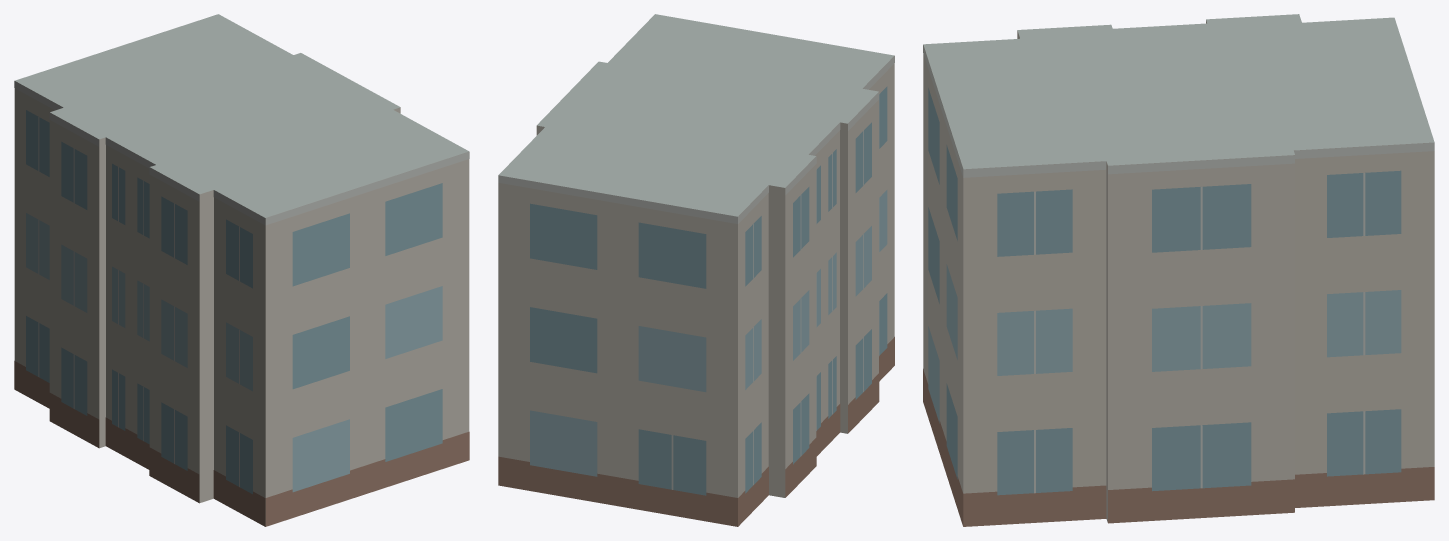
File: survey-upis-32699033.glb
The picture shows the model from 3 angles, left to right: view 1: azimuth 30°, elevation 25°; view 2: azimuth 150°, elevation 25°; view 3: azimuth 270°, elevation 25°; orthographic projection. The views are drawn at different scales.
Visible parts, largest first — view 1: survey-upis-32699033.tmp; view 2: survey-upis-32699033.tmp; view 3: survey-upis-32699033.tmp.
Part boxes in pixels (box(x1,y1,x2,y2)): survey-upis-32699033.tmp: box(14, 14, 469, 526); survey-upis-32699033.tmp: box(498, 14, 894, 526); survey-upis-32699033.tmp: box(923, 14, 1434, 526).
Size of the model in its own units: 9.41 by 10.1 by 13.1.
